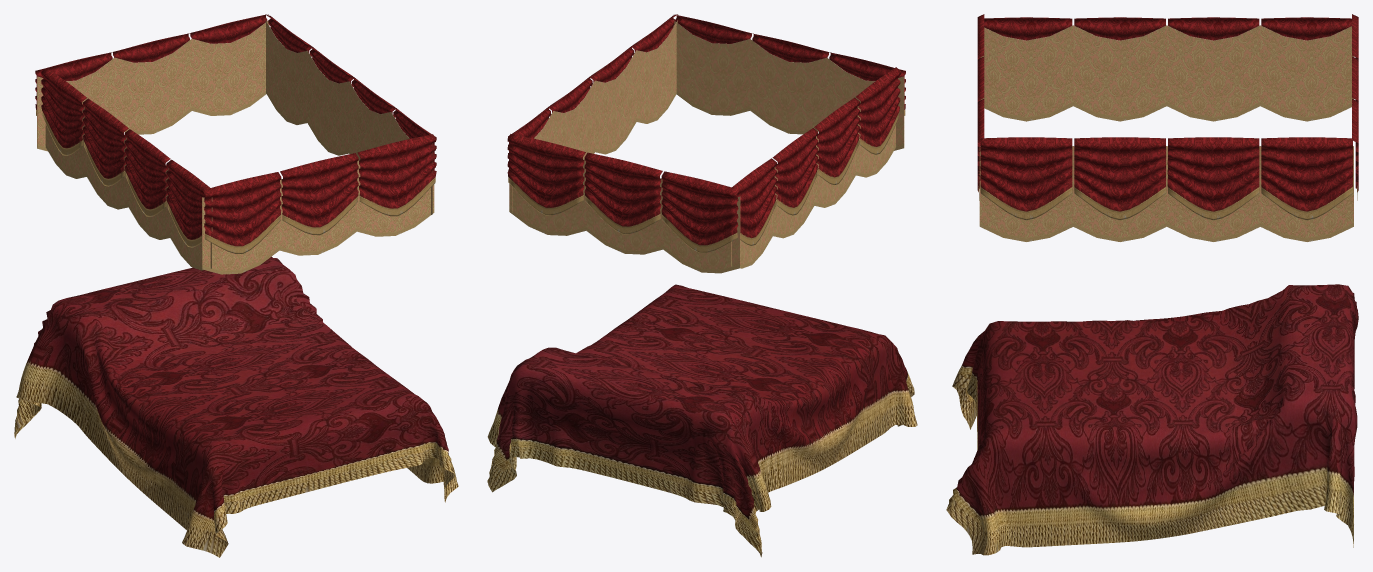
The model's file is besheed.fbx.
The picture shows the model from 3 angles, left to right: view 1: azimuth 30°, elevation 25°; view 2: azimuth 150°, elevation 25°; view 3: azimuth 270°, elevation 25°; orthographic projection. The views are drawn at different scales.
Parts seen in each view (by area): view 1: besheed.001; view 2: besheed.001; view 3: besheed.001.
Boxes of the visible parts, bbox=[...] form: besheed.001: bbox=[14, 14, 458, 557]; besheed.001: bbox=[487, 14, 917, 557]; besheed.001: bbox=[946, 14, 1358, 555].
Bounding box in the file's own units: 174 × 212 × 193.
